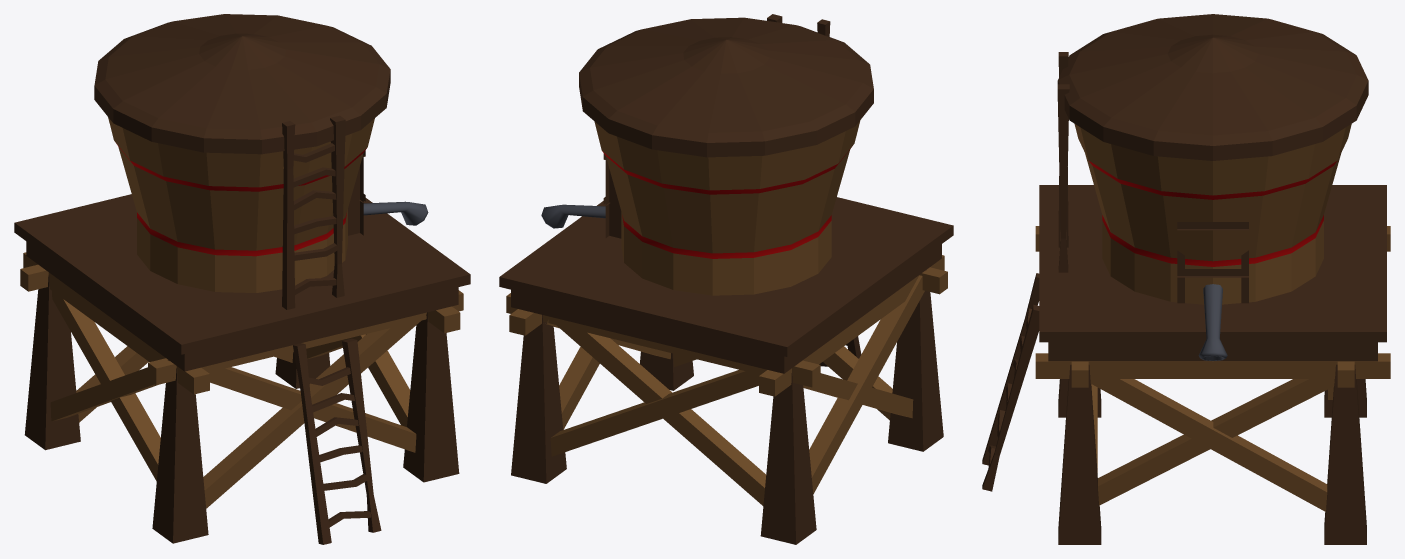
Rendered from CaixaDagua.fbx.
The picture shows the model from 3 angles, left to right: view 1: azimuth 30°, elevation 25°; view 2: azimuth 150°, elevation 25°; view 3: azimuth 270°, elevation 25°; orthographic projection. The views are drawn at different scales.
Visible parts, largest first — view 1: Cube.326; view 2: Cube.326; view 3: Cube.326.
Part boxes in pixels (x1,y1,x2,y2): Cube.326: [14, 14, 470, 544]; Cube.326: [499, 14, 953, 544]; Cube.326: [982, 14, 1390, 544].
Bounding box in the file's own units: 593 × 708 × 596.
